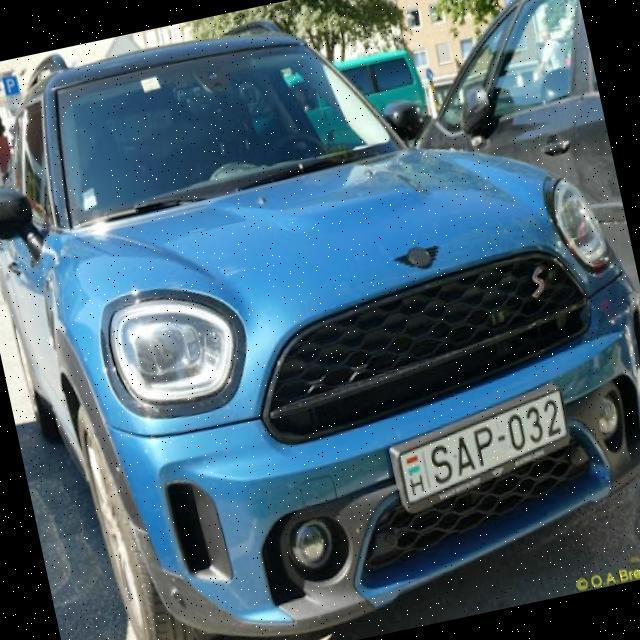licence: (381, 382, 579, 514)
